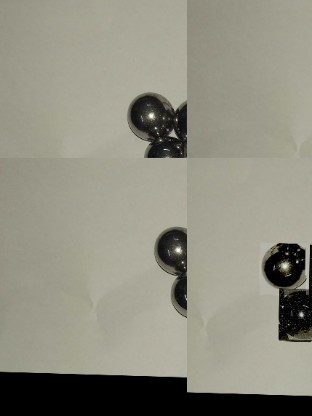ironball: (260, 241, 311, 294), (127, 90, 177, 142), (279, 287, 311, 340), (154, 223, 185, 269), (142, 134, 188, 158), (166, 275, 183, 320), (170, 97, 185, 136)
